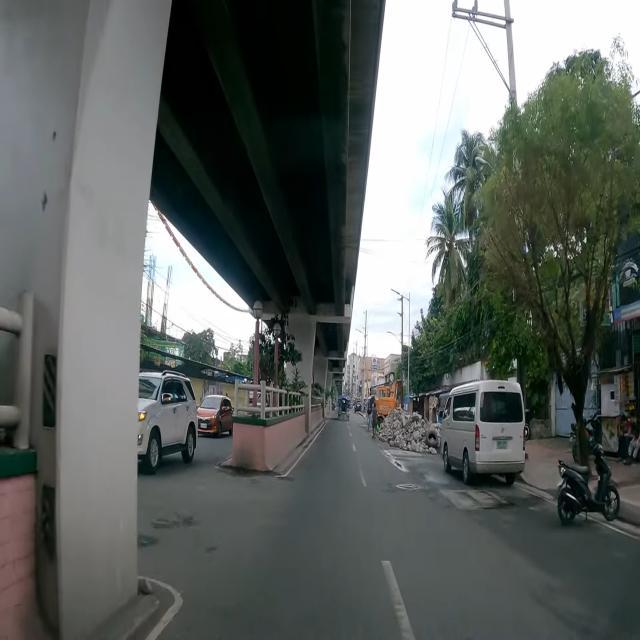car: (441, 380, 526, 484), (137, 371, 197, 474), (197, 394, 233, 437)
jeepney: (338, 394, 350, 422)
motorcycle: (557, 441, 620, 524), (570, 408, 602, 463)
